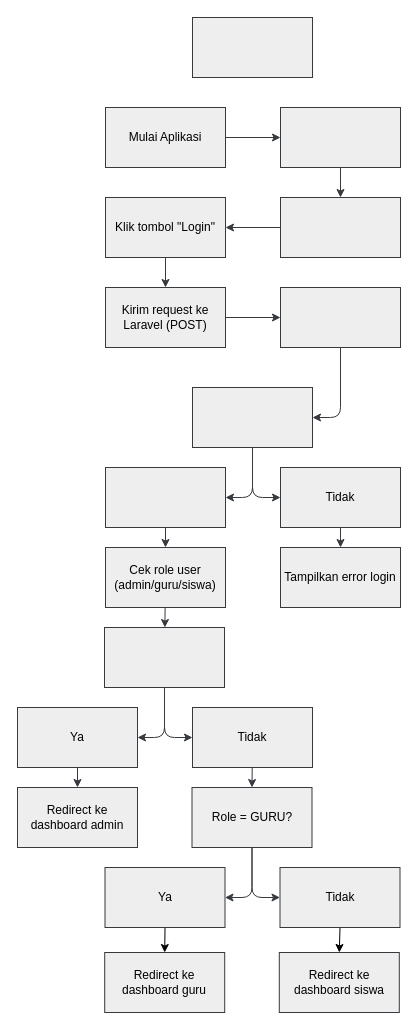
This 418x1030 diagram has some shape labels left out. The centre of each missing label's shape, as x and y in pixels:
ALUR LOGIN: [252,47]
Laravel Controller terima & validasi: [340,317]
Query ke PostgreSQL cari data user (via Eloquent / Query Builder): [252,417]
Role = ADMIN?: [164,657]
User buka halaman web: [340,137]
User isi form login: [340,227]
Ya (User ditemukan): [165,497]
